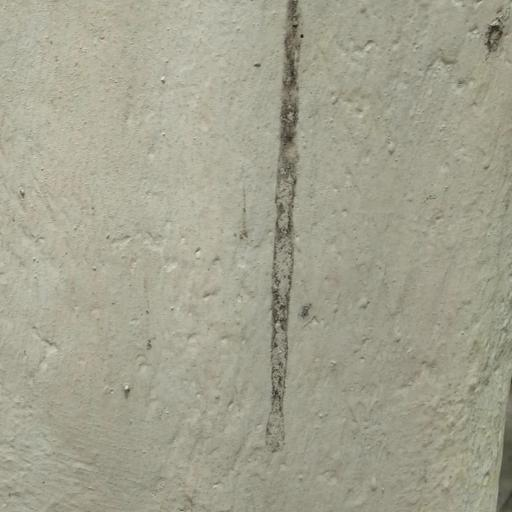stain: (244, 0, 324, 458)
